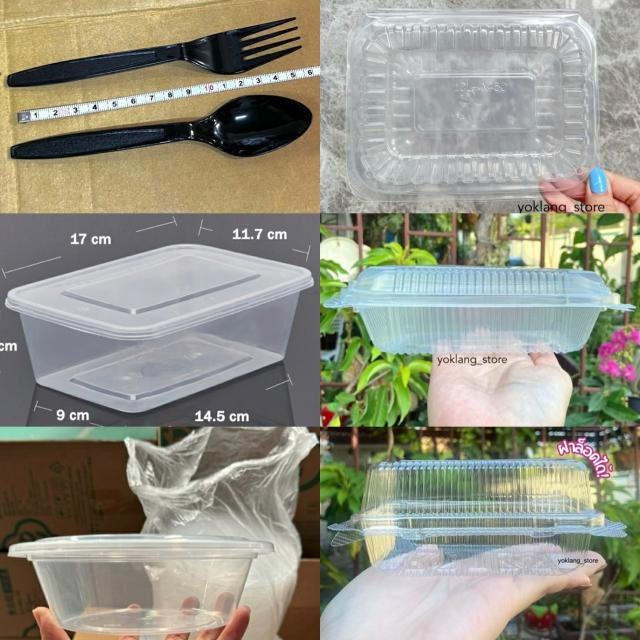Single-layer Plastic: (125, 428, 316, 639)
